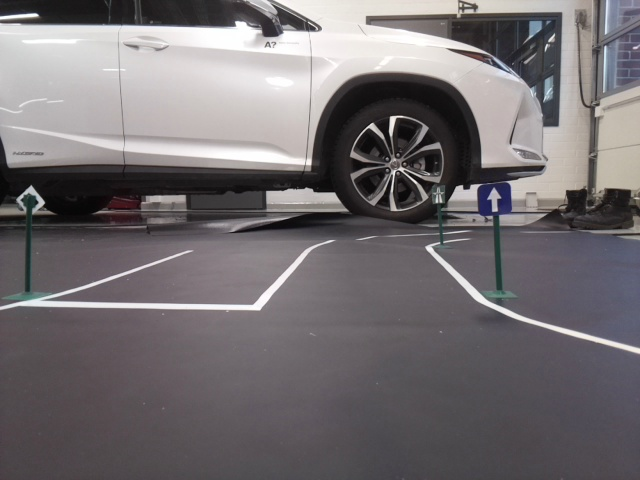HighwayEntrance: (433, 186, 446, 203)
OneWay: (475, 185, 511, 214)
